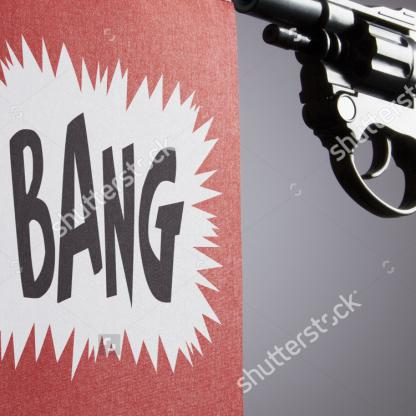gun: (228, 0, 416, 291)
